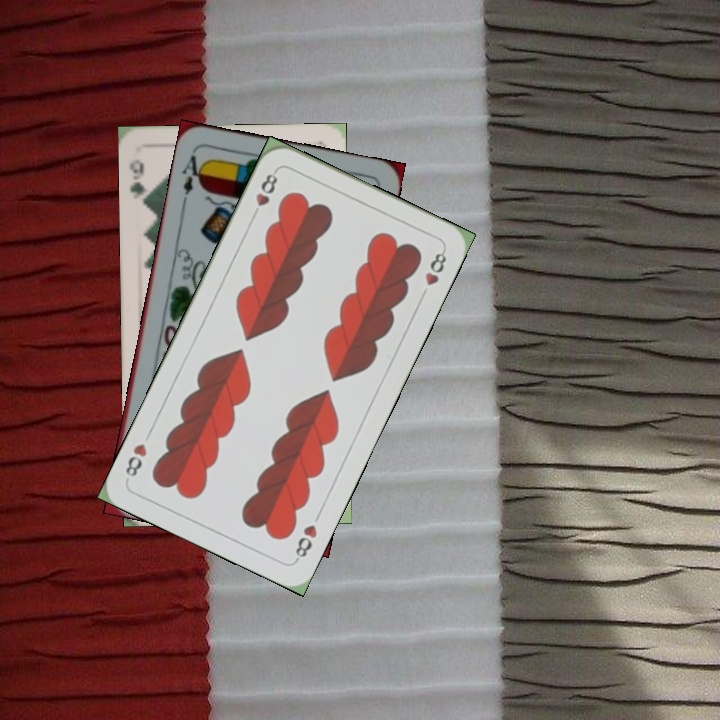EA: (178, 148, 208, 207)
G9: (125, 155, 153, 210)
H8: (247, 166, 280, 222), (291, 520, 320, 564)
